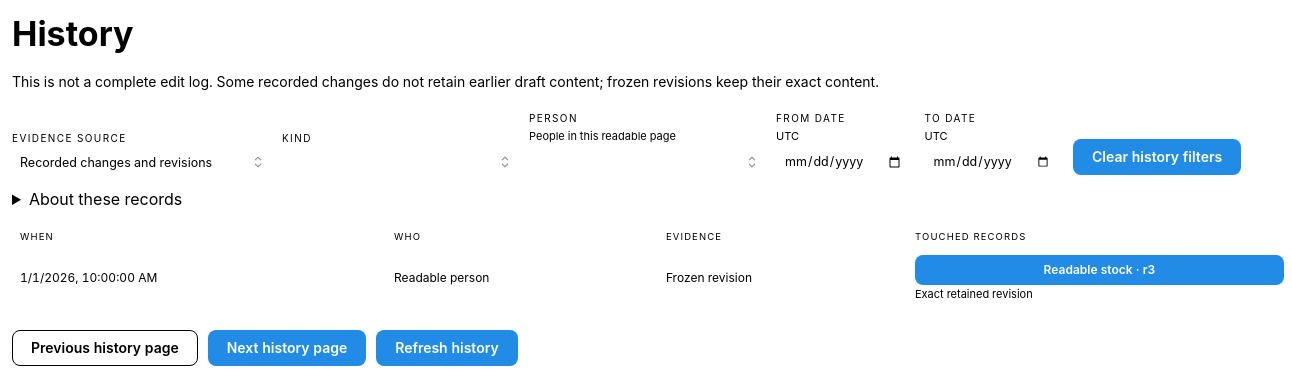
Test case: expired cursor recovery returns to first page without repeating the rejected cursor
Expected: the button "Readable stock · r3" is shown, [915,255,1284,285]
Step 1. Click the button "Next history page" → x=287, y=348, box [208,330,366,366]
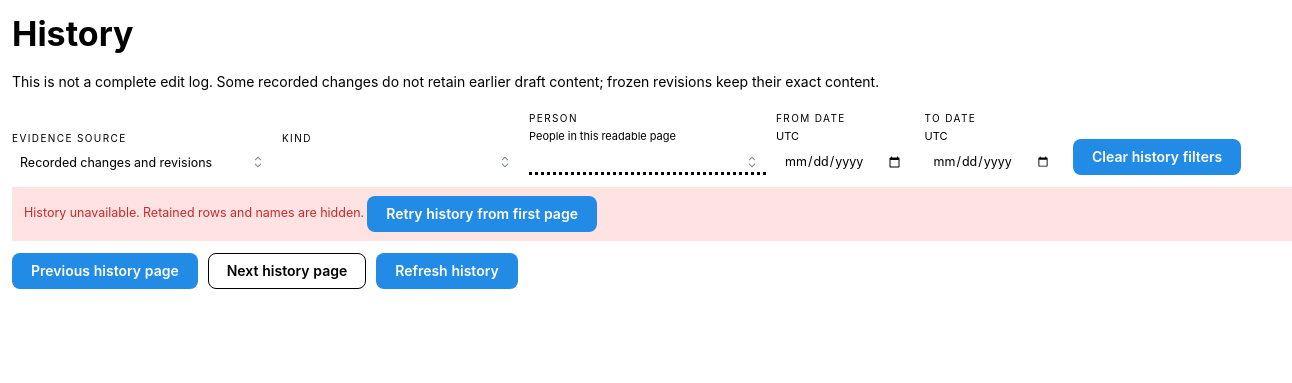
Result: the text "History unavailable" is shown at [24,206,367,220]
Step 2. Click the button "Retry history from first page" → x=482, y=214, box [367,196,597,232]
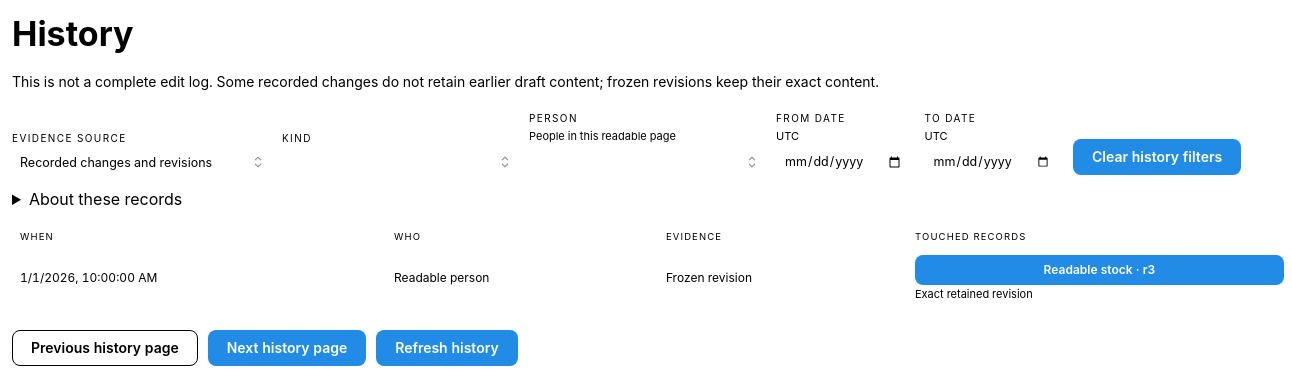
Result: the button "Readable stock · r3" is shown at [915,255,1284,285]
